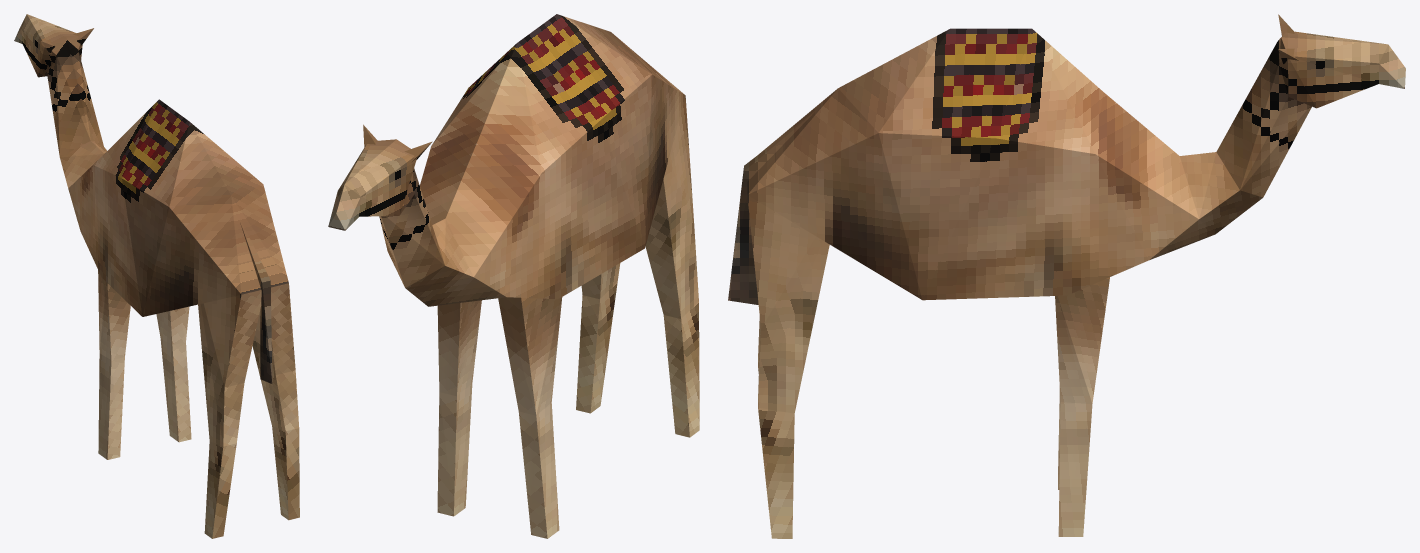
Rendered from Camel_Saddled_Camel_Saddled.glb.
3 views of the same model, side by side, from view 1: azimuth 30°, elevation 25°; view 2: azimuth 150°, elevation 25°; view 3: azimuth 270°, elevation 25° (orthographic). The views are drawn at different scales.
Visible parts, largest first — view 1: Body, Leg3, Head, Leg4, Leg1, Leg2; view 2: Body, Leg3, Leg1, Head, Leg2, Leg4; view 3: Body, Leg4, Head, Leg2.
Boxes of the visible parts, bbox=[...] form: Body: bbox=[60, 99, 288, 383]; Leg3: bbox=[198, 290, 261, 538]; Head: bbox=[14, 14, 103, 157]; Leg4: bbox=[252, 283, 299, 520]; Leg1: bbox=[98, 270, 130, 459]; Leg2: bbox=[156, 306, 191, 442]; Body: bbox=[405, 14, 685, 306]; Leg3: bbox=[645, 96, 699, 437]; Leg1: bbox=[498, 297, 562, 538]; Head: bbox=[328, 124, 444, 287]; Leg2: bbox=[437, 300, 481, 516]; Leg4: bbox=[576, 263, 620, 413]; Body: bbox=[728, 28, 1262, 304]; Leg4: bbox=[747, 195, 829, 538]; Head: bbox=[1216, 14, 1405, 197]; Leg2: bbox=[1055, 277, 1109, 536].
Bounding box in the file's own units: 0.6462 × 1.92 × 2.45.
Materials: 1 (1 with a texture image).
